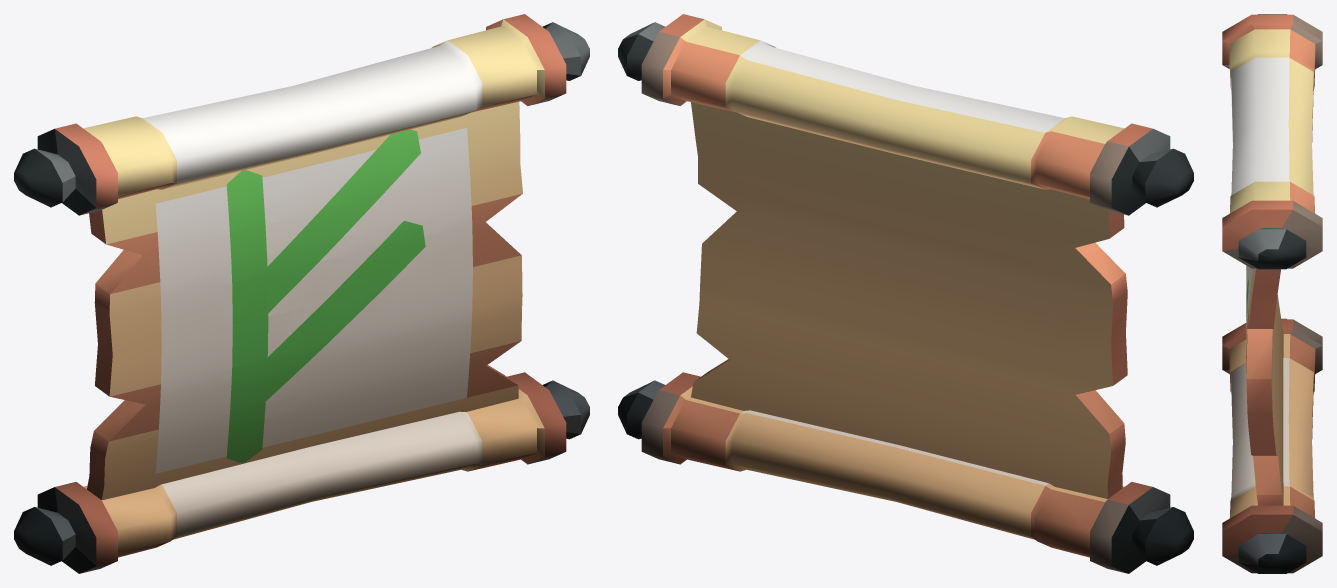
The model's file is scroll_emerald_fehu.glb.
3 renders of one model, left to right at view 1: azimuth 30°, elevation 25°; view 2: azimuth 150°, elevation 25°; view 3: azimuth 270°, elevation 25°, orthographic. The views are drawn at different scales.
Visible parts, largest first — view 1: Item; view 2: Item; view 3: Item.
Boxes of the visible parts, left/top/right/bottom form: Item: left=14, top=14, right=589, bottom=573; Item: left=618, top=14, right=1193, bottom=573; Item: left=1222, top=14, right=1322, bottom=573.
Size of the model in its own units: 0.88 by 0.64 by 0.1595.
Materials: 2 (2 with a texture image).
